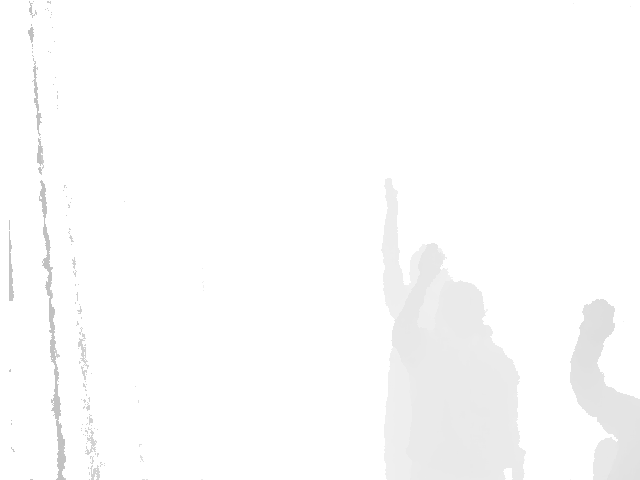hand: (578, 300, 616, 344), (416, 242, 445, 284), (381, 174, 400, 210)
head: (432, 281, 488, 329), (408, 240, 440, 287)
person: (395, 245, 535, 480), (375, 179, 447, 480), (569, 300, 640, 480)
